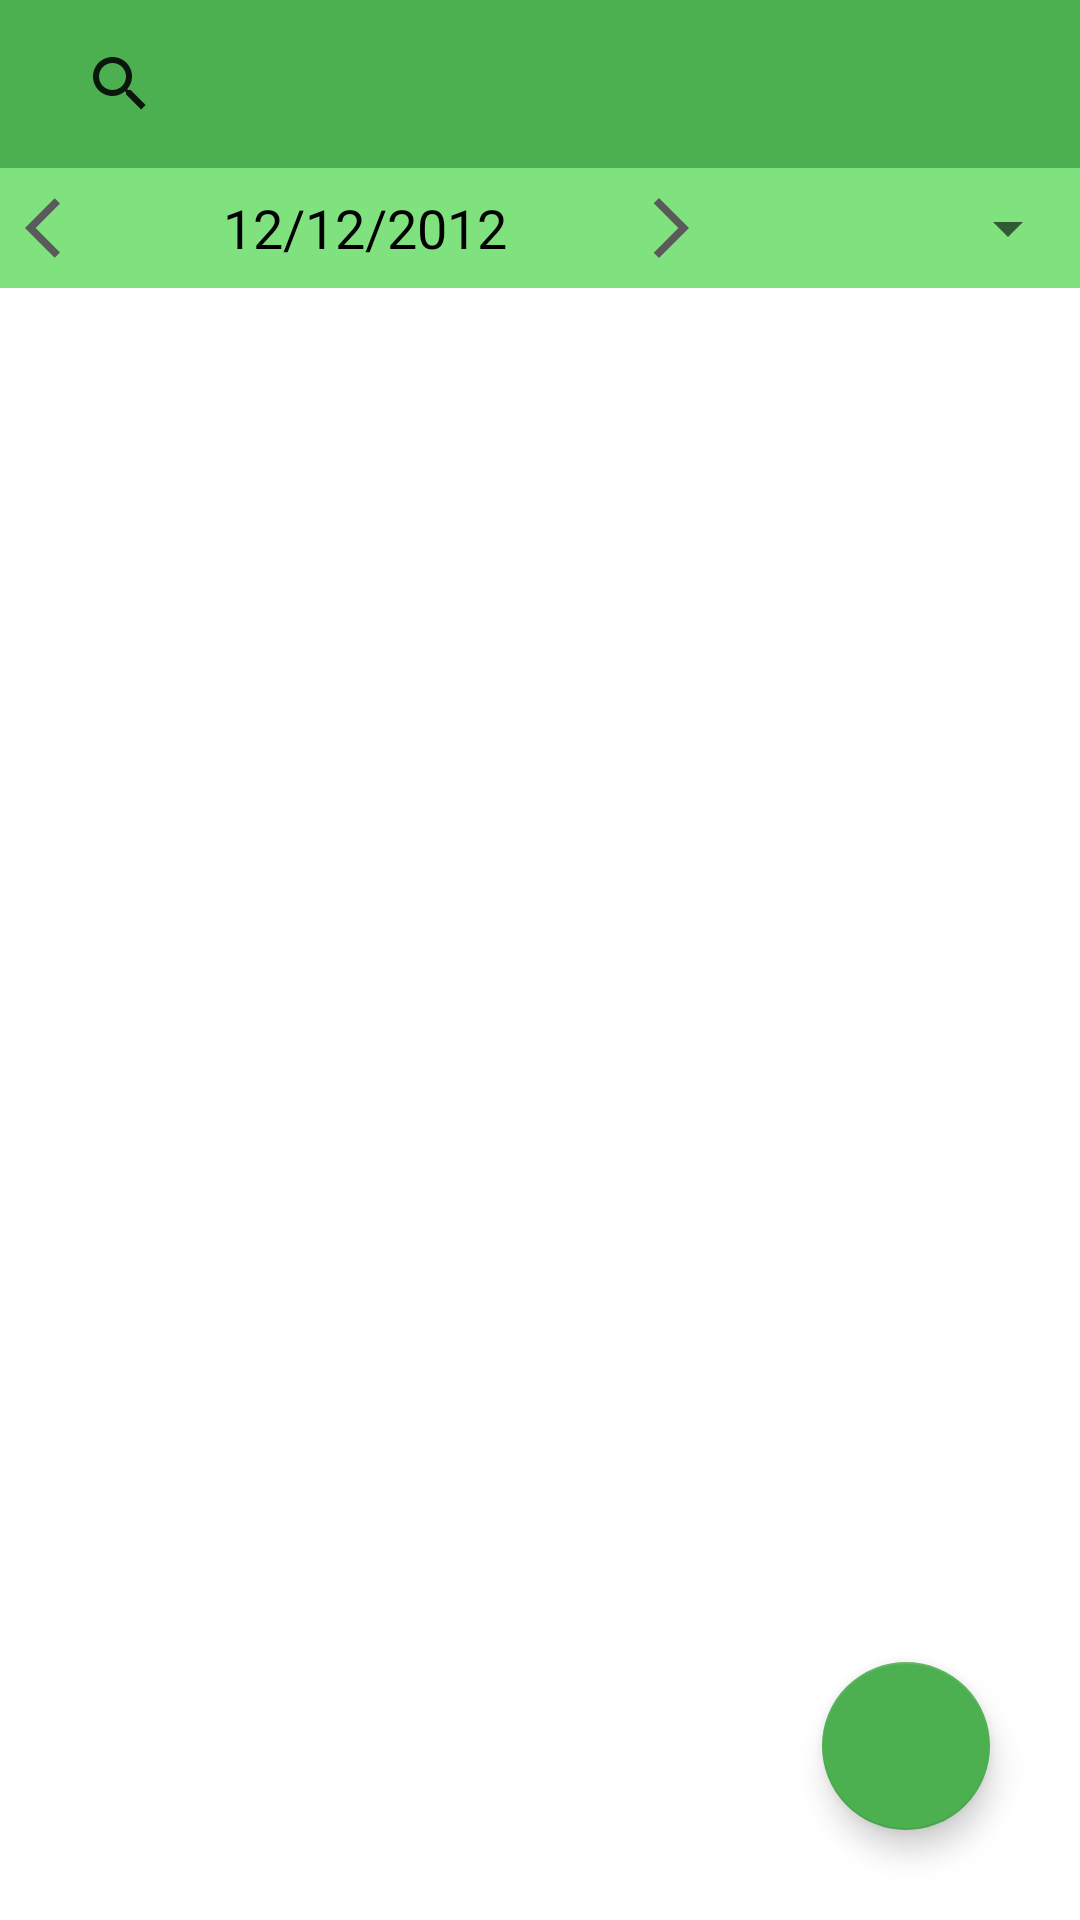

Icons on this 1080px×1920px Android screen, each with its box as (x1, y1, x2, y2):
back: (25, 198, 60, 258)
next: (654, 198, 689, 258)
